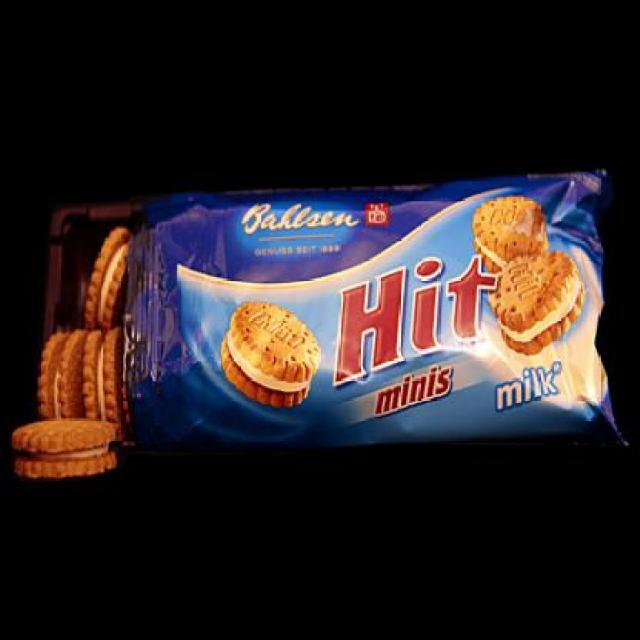Cookie: (124, 168, 612, 438), (12, 414, 122, 478), (29, 318, 82, 414), (83, 220, 123, 318)
